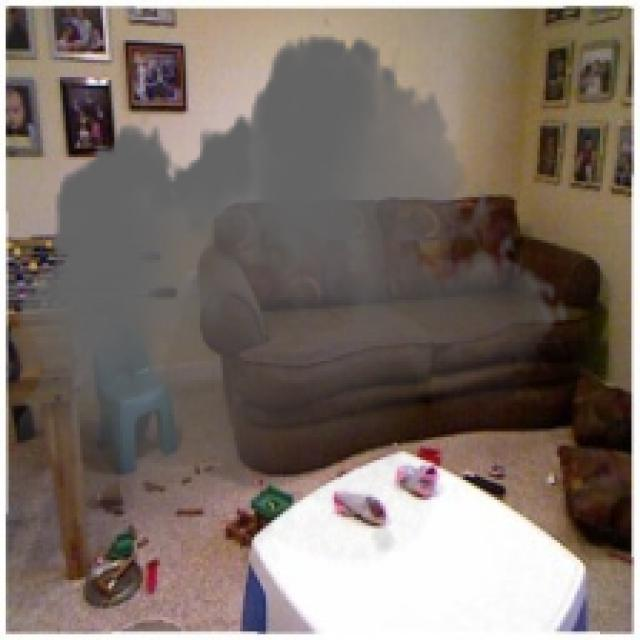smoke: (6, 14, 571, 580)
